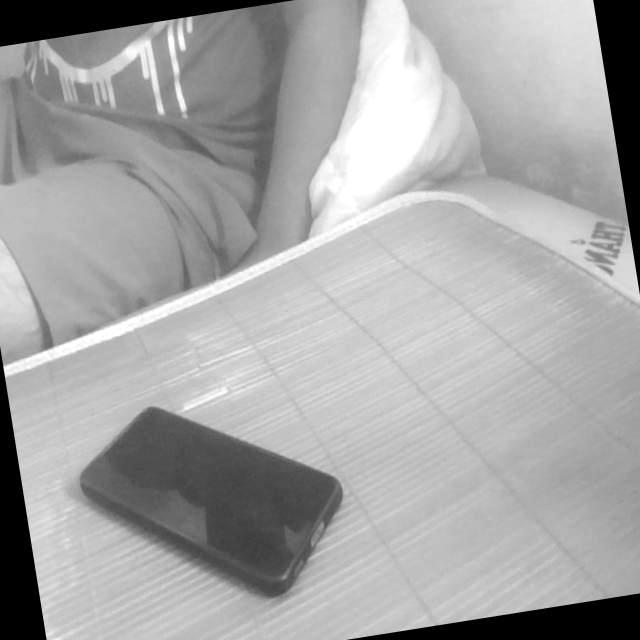phone: (59, 366, 360, 630)
